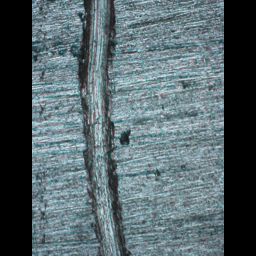d: (76, 0, 133, 255)
